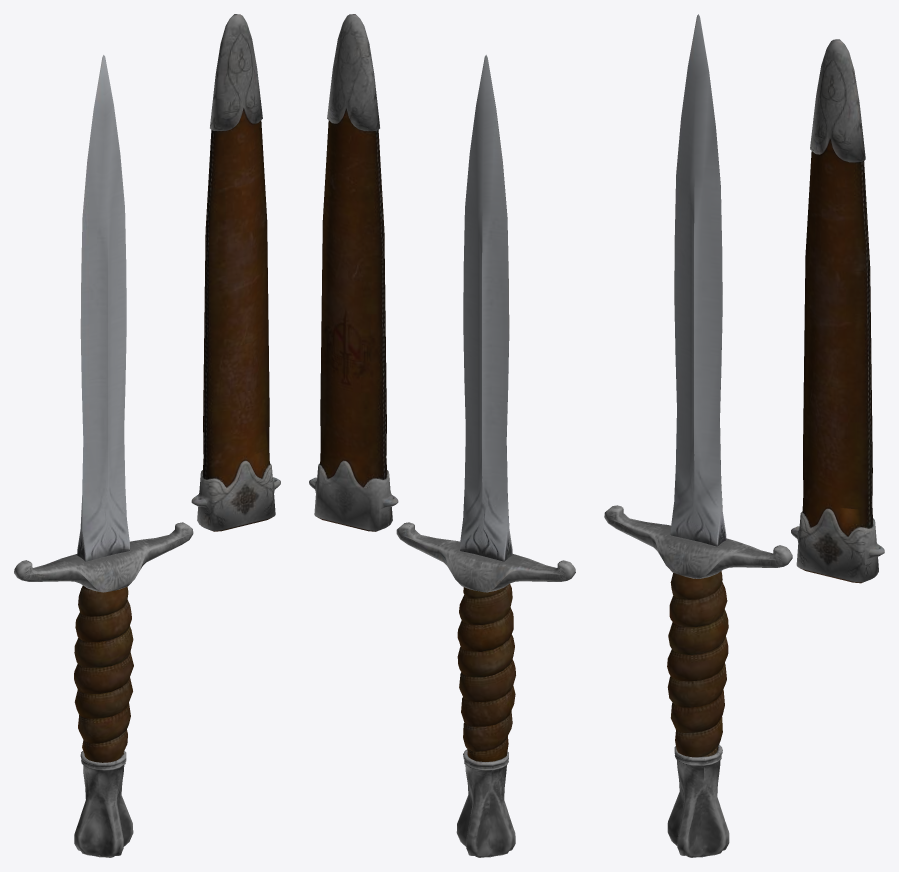
The model's file is ph_ornate_medieval_dagger.glb.
3 views of the same model, side by side, from view 1: azimuth 30°, elevation 25°; view 2: azimuth 150°, elevation 25°; view 3: azimuth 330°, elevation 25° (orthographic). The views are drawn at different scales.
Parts seen in each view (by area): view 1: ornate_medieval_dagger, ornate_medieval_dagger_scabbard; view 2: ornate_medieval_dagger, ornate_medieval_dagger_scabbard; view 3: ornate_medieval_dagger, ornate_medieval_dagger_scabbard.
Boxes of the visible parts, box(x1,y1,x2,y2) form: ornate_medieval_dagger: box(14, 55, 193, 857); ornate_medieval_dagger_scabbard: box(191, 14, 280, 531); ornate_medieval_dagger: box(396, 55, 575, 857); ornate_medieval_dagger_scabbard: box(309, 14, 398, 531); ornate_medieval_dagger: box(604, 14, 792, 857); ornate_medieval_dagger_scabbard: box(791, 39, 884, 583).
Size of the model in its own units: 0.12 by 0.349 by 0.025.
1 material, 1 textured.
